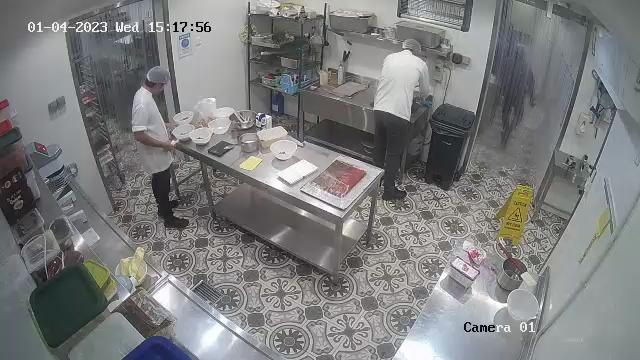no_apron: (138, 91, 180, 174)
